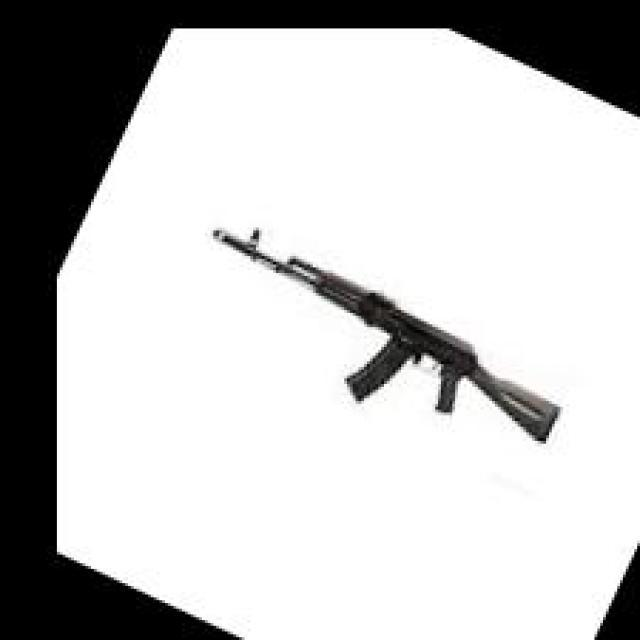weapon: (213, 223, 564, 444)
